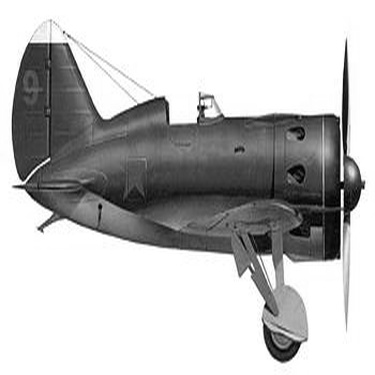airplane: (3, 4, 370, 371)
